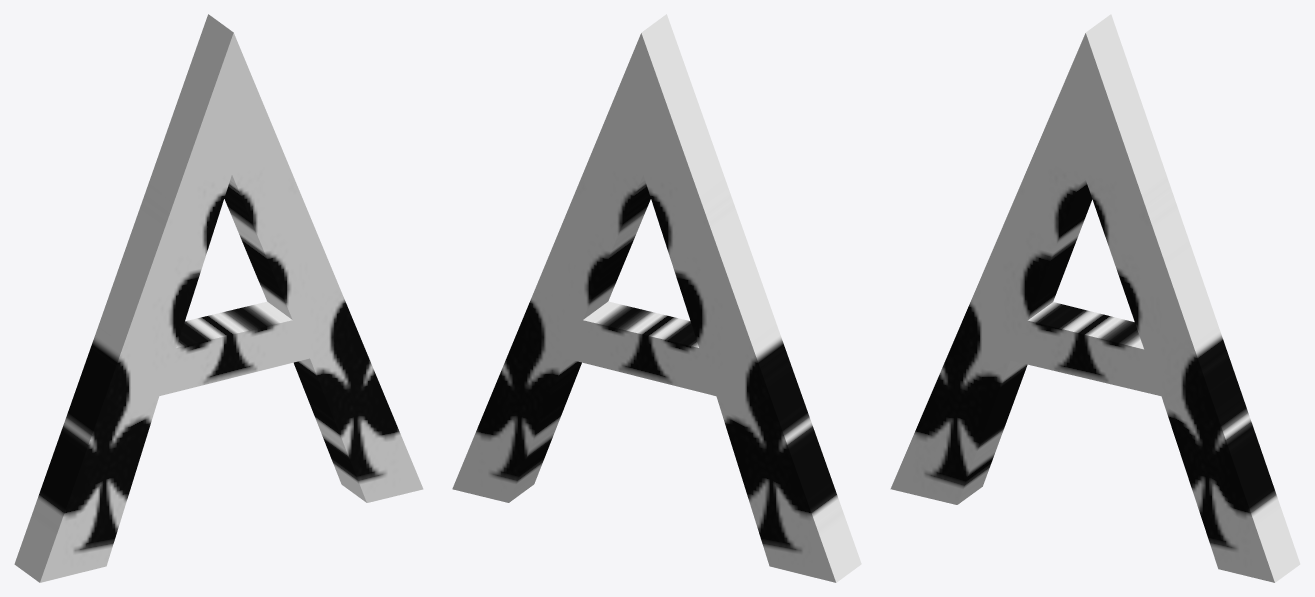
The model's file is As_Trèfle.fbx.
The picture shows the model from 3 angles, left to right: view 1: azimuth 30°, elevation 25°; view 2: azimuth 150°, elevation 25°; view 3: azimuth 330°, elevation 25°; orthographic projection.
Parts seen in each view (by area): view 1: As de trefle; view 2: As de trefle; view 3: As de trefle.
Part boxes in pixels (box(x1,y1,x2,y2)): As de trefle: box(14, 14, 423, 582); As de trefle: box(452, 14, 861, 582); As de trefle: box(890, 14, 1300, 582).
Size of the model in its own units: 10.02 by 12.54 by 1.17.
